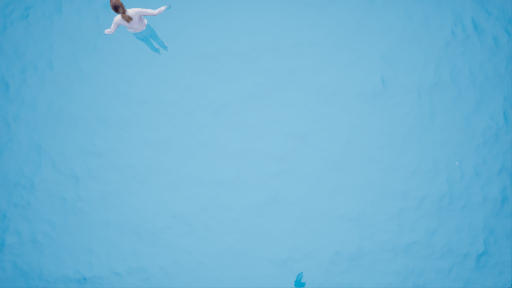person: (101, 1, 172, 56)
